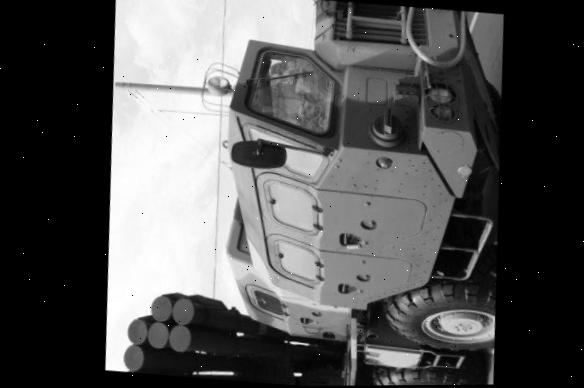rszo: (97, 0, 525, 387)
